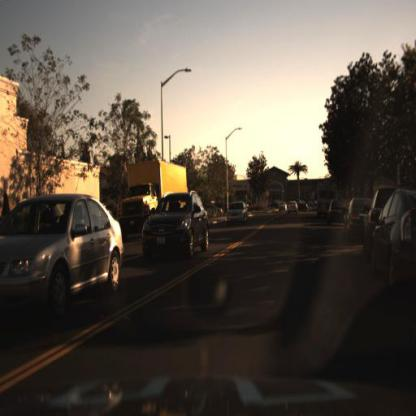car: (1, 195, 126, 312), (374, 178, 416, 306), (143, 189, 216, 262), (342, 198, 373, 251), (326, 200, 347, 234), (226, 199, 248, 228), (328, 198, 346, 227), (287, 198, 301, 218)
truck: (114, 155, 193, 224), (315, 183, 337, 223)
